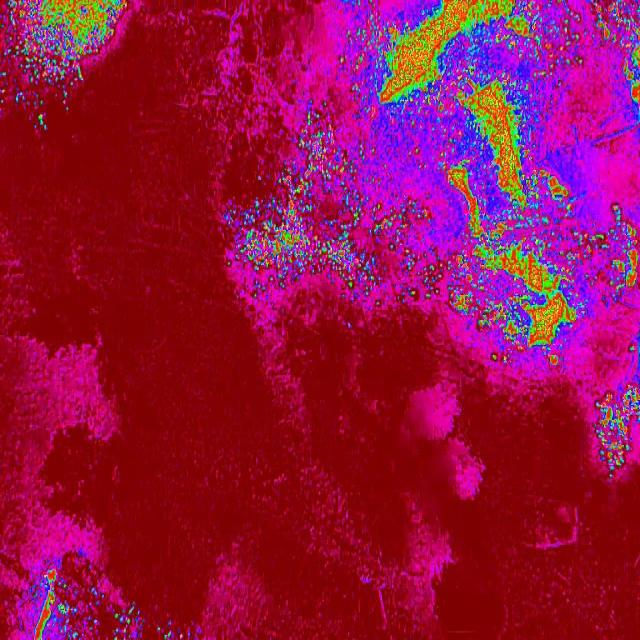fire: (231, 0, 640, 298), (442, 297, 590, 362), (32, 566, 144, 640), (0, 0, 133, 61), (0, 61, 84, 127), (592, 389, 640, 485)
